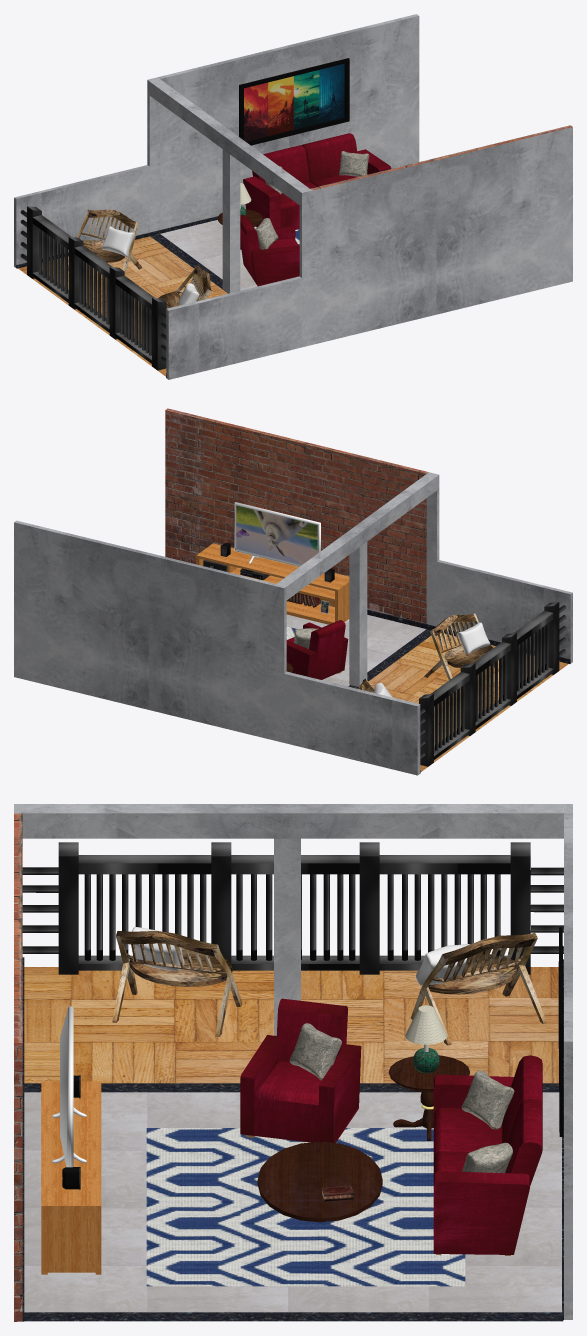
The picture shows the model from 3 angles, top to bottom: view 1: azimuth 30°, elevation 25°; view 2: azimuth 150°, elevation 25°; view 3: azimuth 270°, elevation 25°; orthographic projection. The views are drawn at different scales.
Parts seen in each view (by area): view 1: Living room; view 2: Living room, TV_screen, TV; view 3: Living room, TV.
Boxes of the visible parts, x1=… form: Living room: x1=14, y1=14, x2=572, y2=379; Living room: x1=14, y1=408, x2=572, y2=775; TV_screen: x1=236, y1=505, x2=317, y2=564; TV: x1=234, y1=502, x2=320, y2=566; Living room: x1=14, y1=804, x2=572, y2=1321; TV: x1=51, y1=1006, x2=86, y2=1167.
Bounding box in the file's own units: 28.31 × 10.35 × 18.77.
24 materials, 23 textured.
